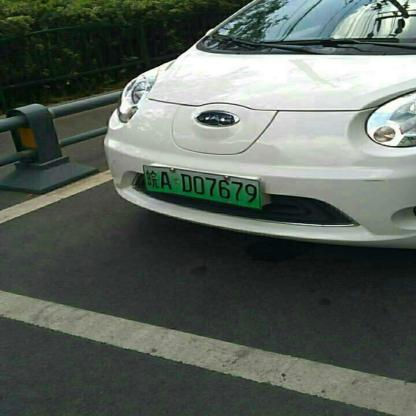lp: (140, 160, 263, 209)
